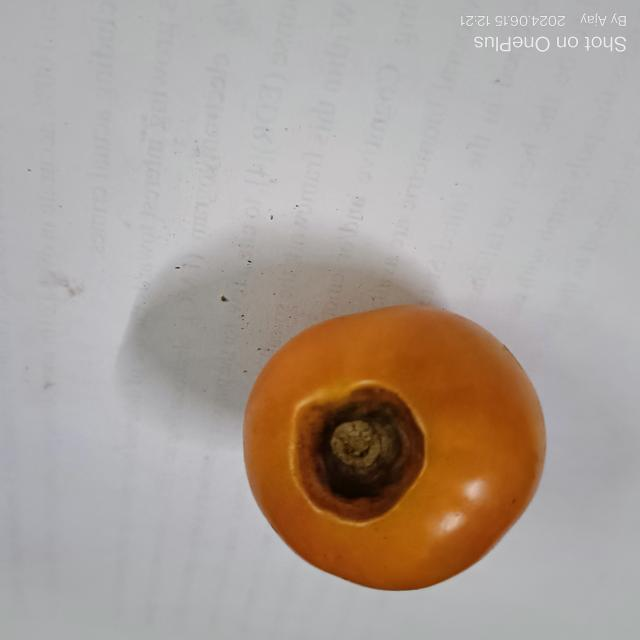Anthrocnose: (296, 376, 426, 524)
